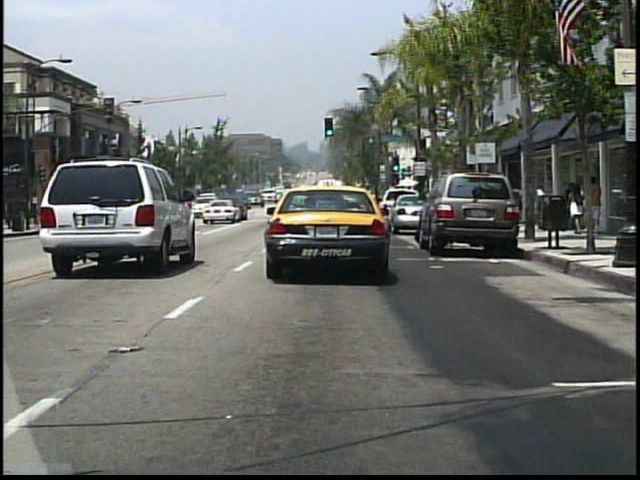person: (567, 181, 586, 238), (564, 179, 580, 232), (593, 172, 599, 233)
